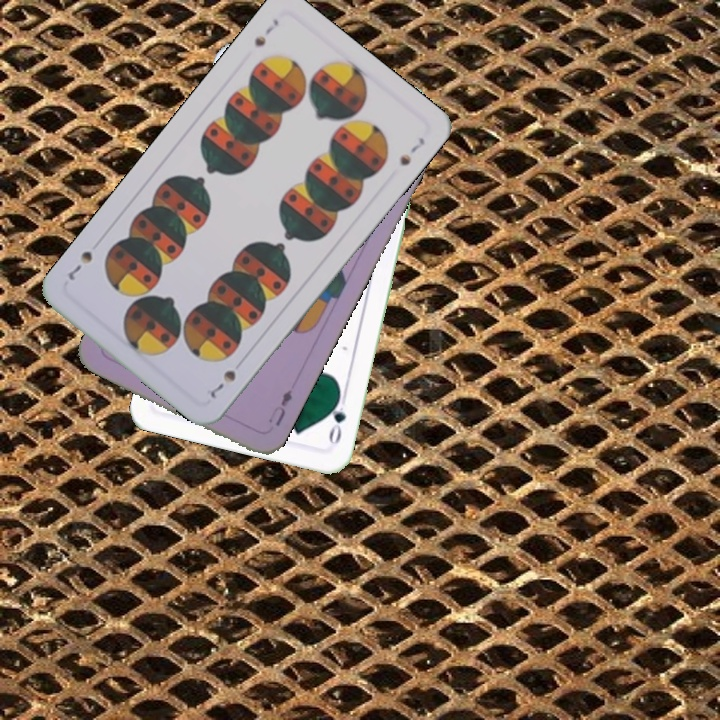EU: (264, 380, 298, 430)
GO: (324, 389, 350, 448)
S7: (206, 365, 239, 400), (250, 14, 282, 50)
